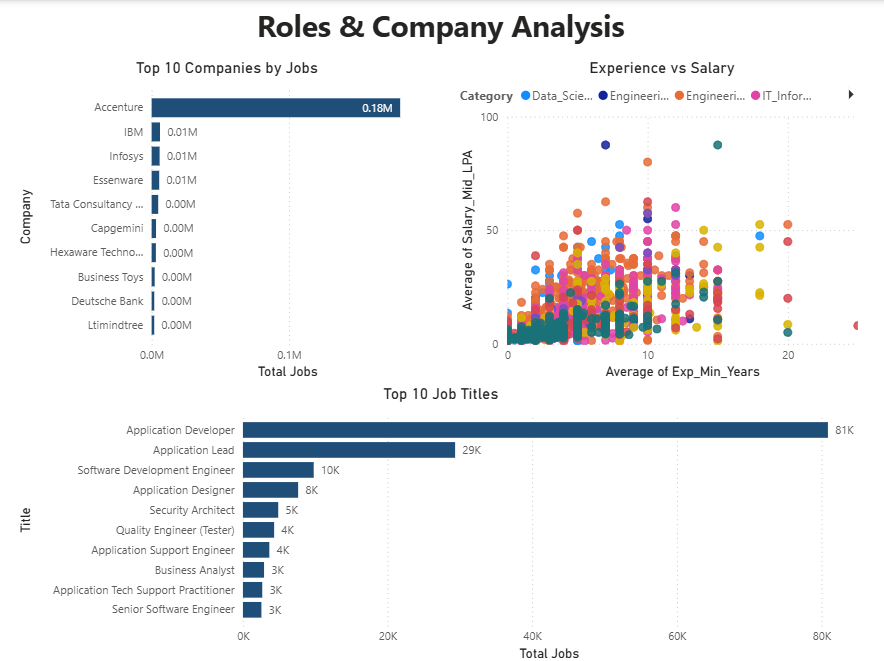

This screenshot's page, from the dashboard's own definition file:
{"tool":"powerbi","page":{"name":"Roles","canvas":[960,720],"ordinal":1},"visuals":[{"type":"clusteredBarChart","title":"Top 10 Companies by Jobs","fields":{"Category":["Naukri_Combined_AllCategories.Company"],"Y":["Naukri_Combined_AllCategories.Total Jobs"]},"box":[16,64,464,352],"z":0},{"type":"scatterChart","title":"Experience vs Salary","fields":{"X":["Avg(Naukri_Combined_AllCategories.Exp_Min_Years)"],"Y":["Avg(Naukri_Combined_AllCategories.Salary_Mid_LPA)"],"Series":["Naukri_Combined_AllCategories.Category"],"Category":["Naukri_Combined_AllCategories.Title"]},"box":[496,64,448,352],"z":1000},{"type":"clusteredBarChart","title":"Top 10 Job Titles","fields":{"Category":["Naukri_Combined_AllCategories.Title"],"Y":["Naukri_Combined_AllCategories.Total Jobs"]},"box":[16,416,928,304],"z":2000},{"type":"textbox","box":[0,0,960,64],"z":3000}]}

Visuals, with their boxes in screenshot pixels (x1, y1, x2, y2), scaled from the page's 960x720 canvas onto the 884x661 screenshot:
"Top 10 Companies by Jobs" clusteredBarChart: (left=15, top=59, right=442, bottom=382)
"Experience vs Salary" scatterChart: (left=457, top=59, right=869, bottom=382)
"Top 10 Job Titles" clusteredBarChart: (left=15, top=382, right=869, bottom=660)
textbox: (left=0, top=0, right=883, bottom=59)
